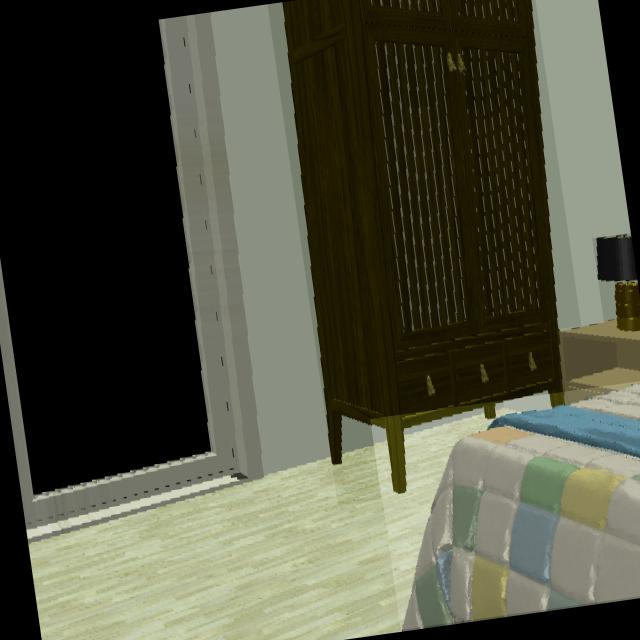bed: (401, 383, 640, 631)
lamp: (597, 237, 640, 332)
nighttable: (562, 323, 640, 403)
wardrobe: (282, 0, 566, 497)
